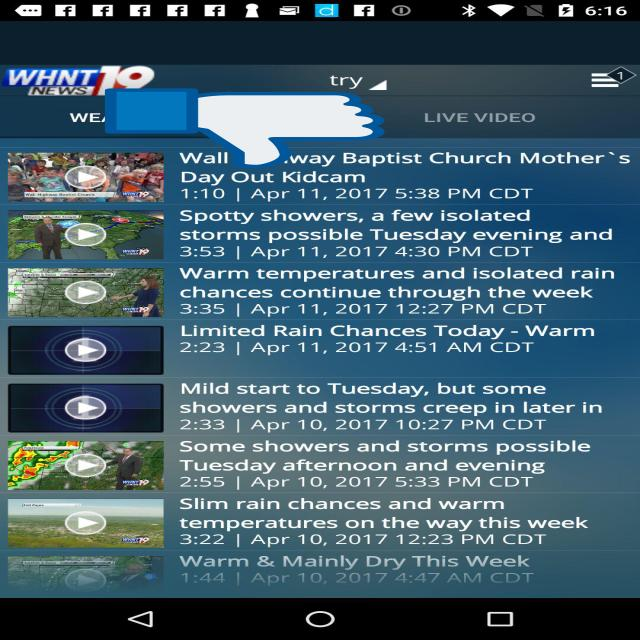obstruction: (105, 87, 384, 170)
